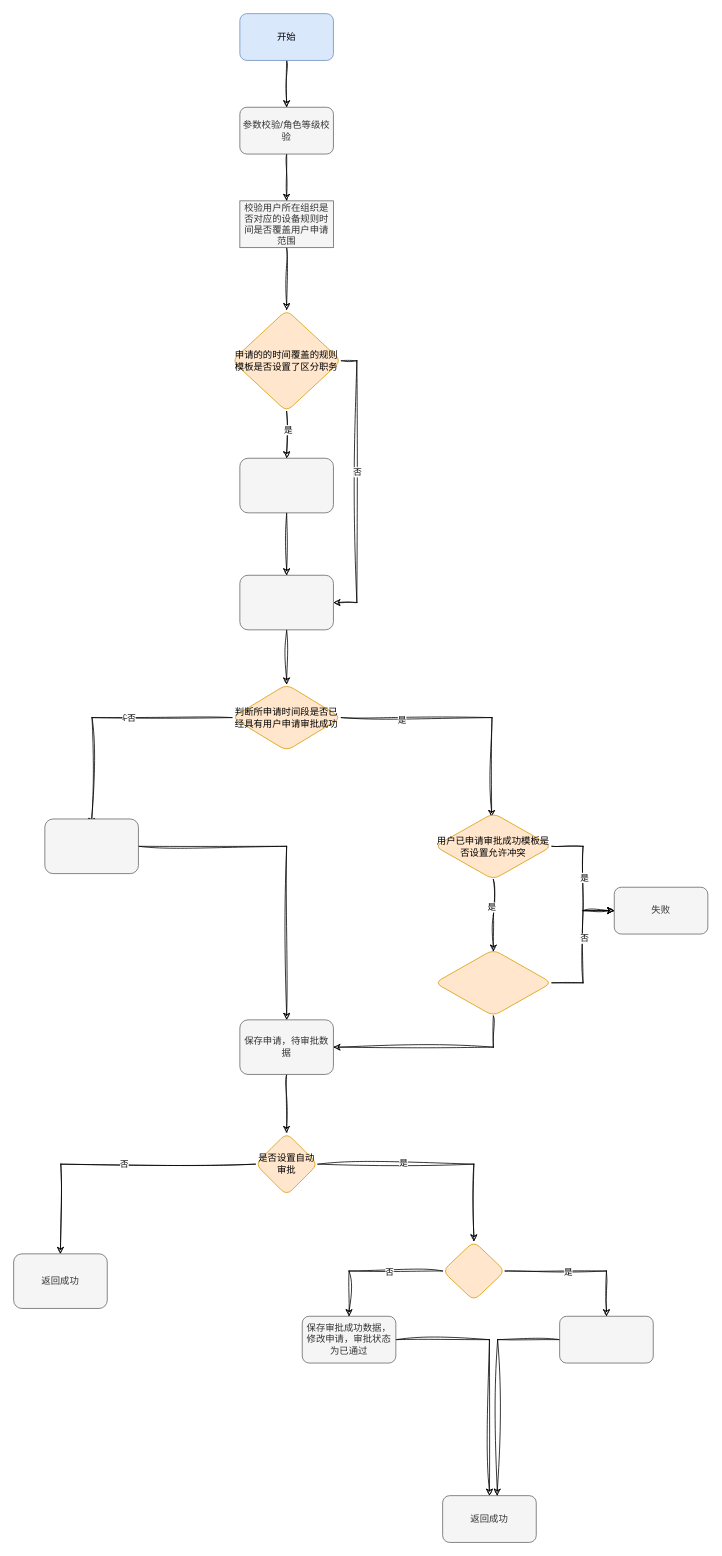
Some shapes in this 722 by 1556 pixel diagram are drawn without their labels. The shapes that lost their labels are listed below. From the top down, each one's box as (x1, y1, x2, y2) in pixels, then its label:
(239, 457, 333, 513): 校验用户对应职务操作设备的规则时间是否覆盖用户申请
(239, 574, 333, 630): 校验用户同一权限下是否重复申请
(44, 818, 138, 874): 校验成功
(434, 949, 552, 1016): 申请时间是否在已审批成功用户申请时间范围的子集
(442, 1241, 505, 1301): 是否申请时间具有冲突
(559, 1315, 653, 1363): 修改审批组织id为先通过的模板冲突审批组织id列表
